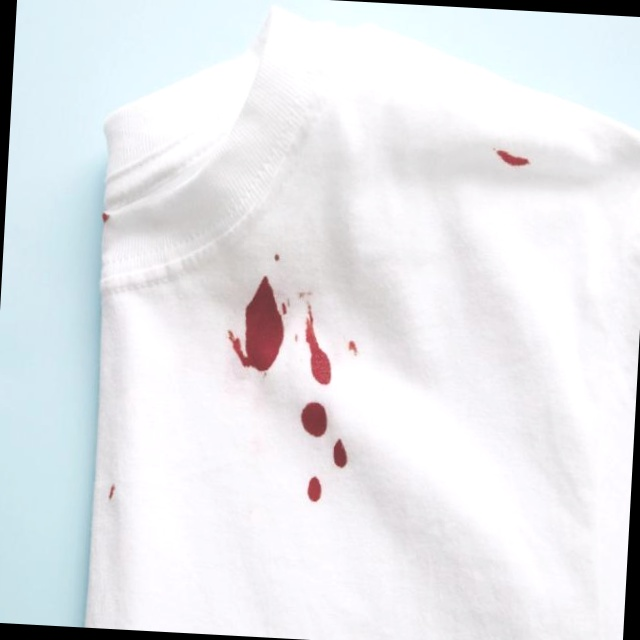blood: (291, 402, 353, 505), (236, 273, 292, 375), (299, 312, 335, 386)
